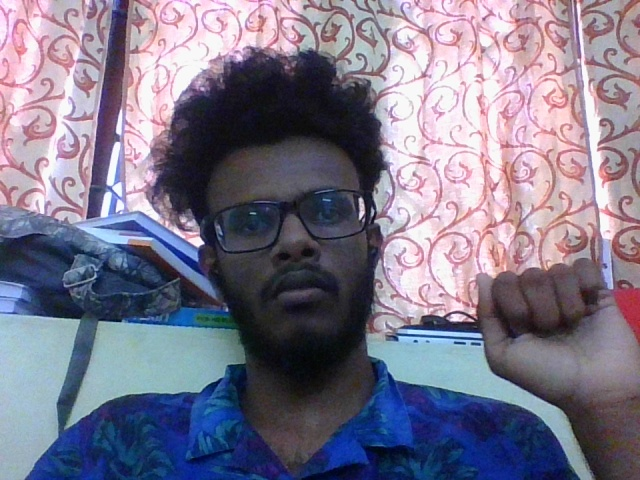yes: (462, 254, 640, 480)
